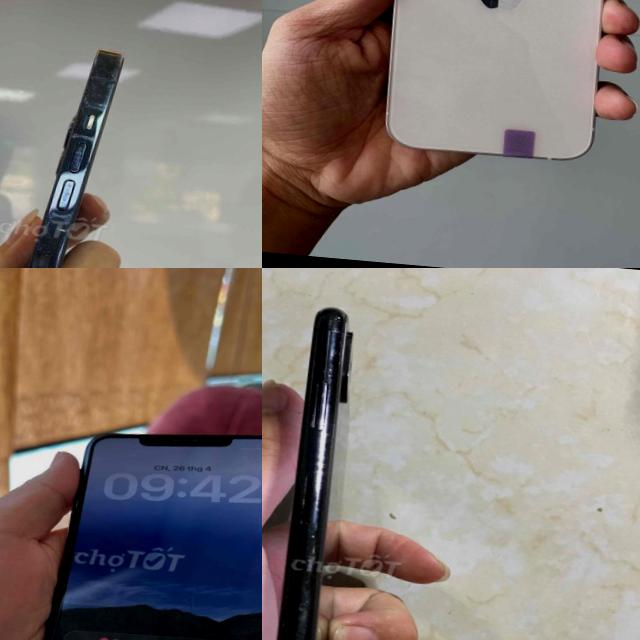scratch: (319, 318, 342, 394), (296, 520, 322, 552), (287, 631, 303, 640)
